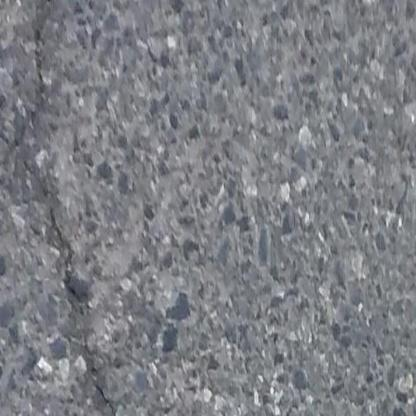Cracks: (11, 0, 78, 284), (66, 288, 127, 416)
